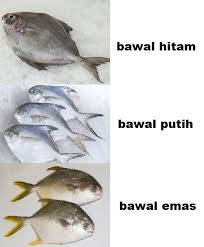Ikan Bawal: (2, 10, 110, 84), (2, 203, 103, 247), (2, 125, 85, 166)
